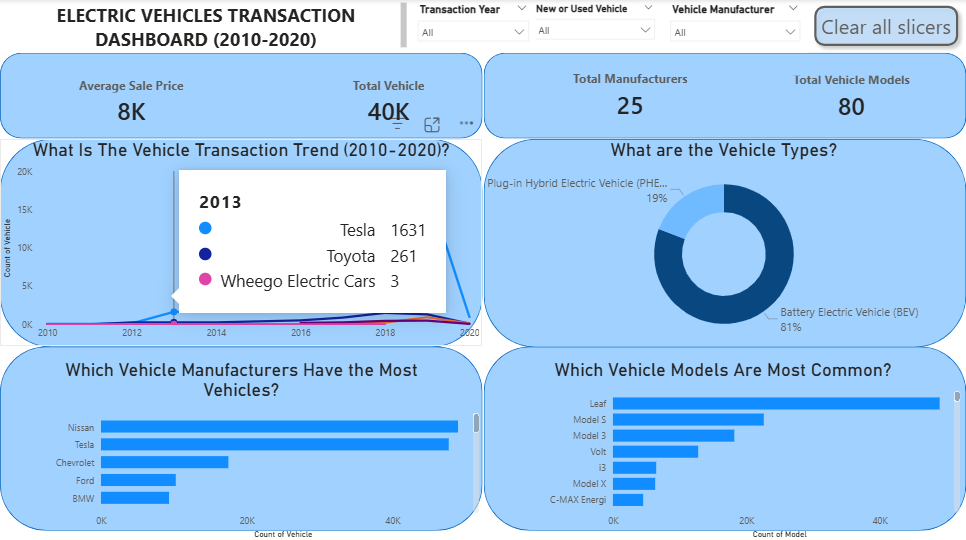

What the dashboard file says about the page in this screenshot:
{"tool":"powerbi","page":{"name":"Dashboard","canvas":[1280,720],"ordinal":0},"visuals":[{"type":"group","id":"g1","title":"Background","box":[0,71.3,1280,634.2],"z":0},{"type":"shape","box":[0,71.3,639.2,113.5],"z":0,"group":"g1"},{"type":"textbox","box":[9.7,0,534.2,71.2],"z":1000},{"type":"shape","box":[641.1,71.3,639.2,113.5],"z":1000,"group":"g1"},{"type":"cardVisual","fields":{"Data":["Avg(Resource Files.Sale Price)"]},"box":[0,71.8,348.9,129.6],"z":2000},{"type":"shape","box":[0,184.8,639.2,276.1],"z":2000,"group":"g1"},{"type":"shape","box":[0,460.9,639.2,244],"z":3000,"group":"g1"},{"type":"barChart","title":"Which Vehicle Manufacturers Have the Most Vehicles?","fields":{"Category":["Resource Files.Make"],"Y":["CountNonNull(Resource Files.Clean Alternative Fuel Vehicle Type)"]},"box":[0,476.5,640,243.2],"z":3000},{"type":"shape","box":[641.1,460.9,639.2,244],"z":4000,"group":"g1"},{"type":"barChart","title":"Which Vehicle Models Are Most Common?","fields":{"Category":["Resource Files.Model"],"Y":["CountNonNull(Resource Files.Model)"]},"box":[640,476.5,638,243.2],"z":4000},{"type":"shape","box":[641.1,184.8,639.2,276.1],"z":5000,"group":"g1"},{"type":"lineChart","title":"What Is The Vehicle Transaction  Trend (2010-2020)?","fields":{"Y":["CountNonNull(Resource Files.DOL Vehicle ID)"],"Category":["Resource Files.Transaction Year"],"Series":["Resource Files.Make"]},"box":[0,185.1,640,275.7],"z":5000},{"type":"slicer","fields":{"Values":["Resource Files.Make"]},"box":[877.7,0,192.1,71.2],"z":6000},{"type":"slicer","fields":{"Values":["Resource Files.New or Used Vehicle"]},"box":[697.2,0,180.5,71.2],"z":7000},{"type":"donutChart","title":"What are the Vehicle Types?","fields":{"Category":["Resource Files.Clean Alternative Fuel Vehicle Type"],"Y":["Sum(Resource Files.Sale Price)"]},"box":[640,185.1,640,275.7],"z":8000},{"type":"cardVisual","fields":{"Data":["Count(Resource Files.DOL Vehicle ID)"]},"box":[348,71.9,334.8,128.6],"z":9000},{"type":"cardVisual","fields":{"Data":["Count(Resource Files.Make)"]},"box":[683.1,63.1,302.7,129.5],"z":10000},{"type":"actionButton","box":[1069.7,0,208.6,71.2],"z":11000},{"type":"slicer","fields":{"Values":["Resource Files.Transaction Year"]},"box":[543.2,0,167.3,71.2],"z":12000},{"type":"cardVisual","fields":{"Data":["Count(Resource Files.Model)"]},"box":[977.7,84.2,302.7,87.4],"z":13000}]}

Visuals, with their boxes in screenshot pixels (x1, y1, x2, y2), scaled from the page's 1280x720 canvas onto the 966x540 screenshot:
"Background" group: (left=0, top=53, right=965, bottom=529)
shape: (left=0, top=53, right=482, bottom=139)
textbox: (left=7, top=0, right=410, bottom=53)
shape: (left=484, top=53, right=965, bottom=139)
cardVisual - Avg(Resource Files.Sale Price): (left=0, top=54, right=263, bottom=151)
shape: (left=0, top=139, right=482, bottom=346)
shape: (left=0, top=346, right=482, bottom=529)
"Which Vehicle Manufacturers Have the Most Vehicles?" barChart: (left=0, top=357, right=483, bottom=539)
shape: (left=484, top=346, right=965, bottom=529)
"Which Vehicle Models Are Most Common?" barChart: (left=483, top=357, right=964, bottom=539)
shape: (left=484, top=139, right=965, bottom=346)
"What Is The Vehicle Transaction  Trend (2010-2020)?" lineChart: (left=0, top=139, right=483, bottom=346)
slicer - Resource Files.Make: (left=662, top=0, right=807, bottom=53)
slicer - Resource Files.New or Used Vehicle: (left=526, top=0, right=662, bottom=53)
"What are the Vehicle Types?" donutChart: (left=483, top=139, right=965, bottom=346)
cardVisual - Count(Resource Files.DOL Vehicle ID): (left=263, top=54, right=515, bottom=150)
cardVisual - Count(Resource Files.Make): (left=516, top=47, right=744, bottom=144)
actionButton: (left=807, top=0, right=965, bottom=53)
slicer - Resource Files.Transaction Year: (left=410, top=0, right=536, bottom=53)
cardVisual - Count(Resource Files.Model): (left=738, top=63, right=965, bottom=129)
